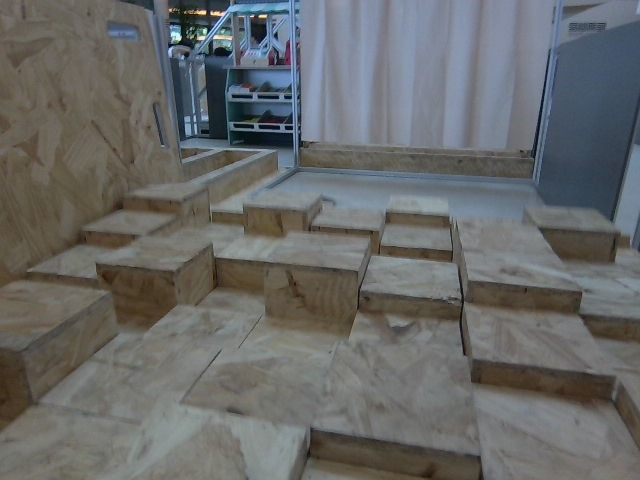curtain: (314, 0, 544, 156)
